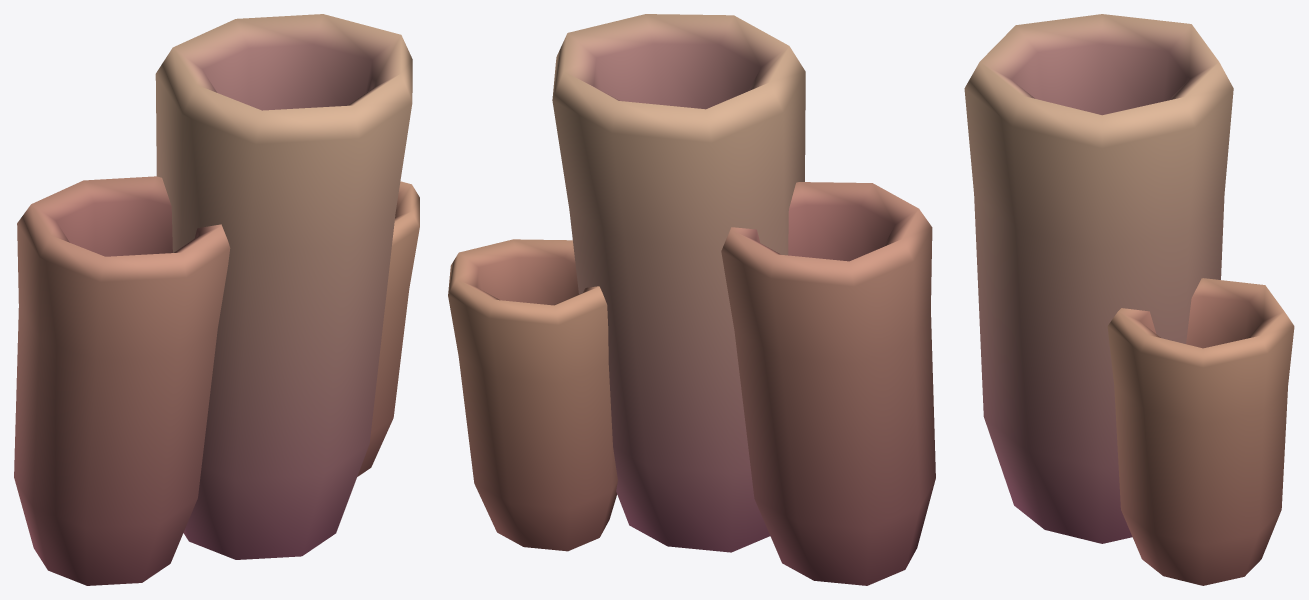
Rendered from Ocean_Coral_Tube_Sponge_LOD1.glb.
3 views of the same model, side by side, from view 1: azimuth 30°, elevation 25°; view 2: azimuth 150°, elevation 25°; view 3: azimuth 270°, elevation 25° (orthographic). The views are drawn at different scales.
Parts seen in each view (by area): view 1: Ocean_Coral_Tube_Sponge_LOD1; view 2: Ocean_Coral_Tube_Sponge_LOD1; view 3: Ocean_Coral_Tube_Sponge_LOD1.
Boxes of the visible parts, bbox=[...] form: Ocean_Coral_Tube_Sponge_LOD1: bbox=[14, 14, 419, 585]; Ocean_Coral_Tube_Sponge_LOD1: bbox=[448, 14, 935, 585]; Ocean_Coral_Tube_Sponge_LOD1: bbox=[964, 14, 1294, 585].
Bounding box in the file's own units: 0.6744 × 0.68 × 0.4413.
